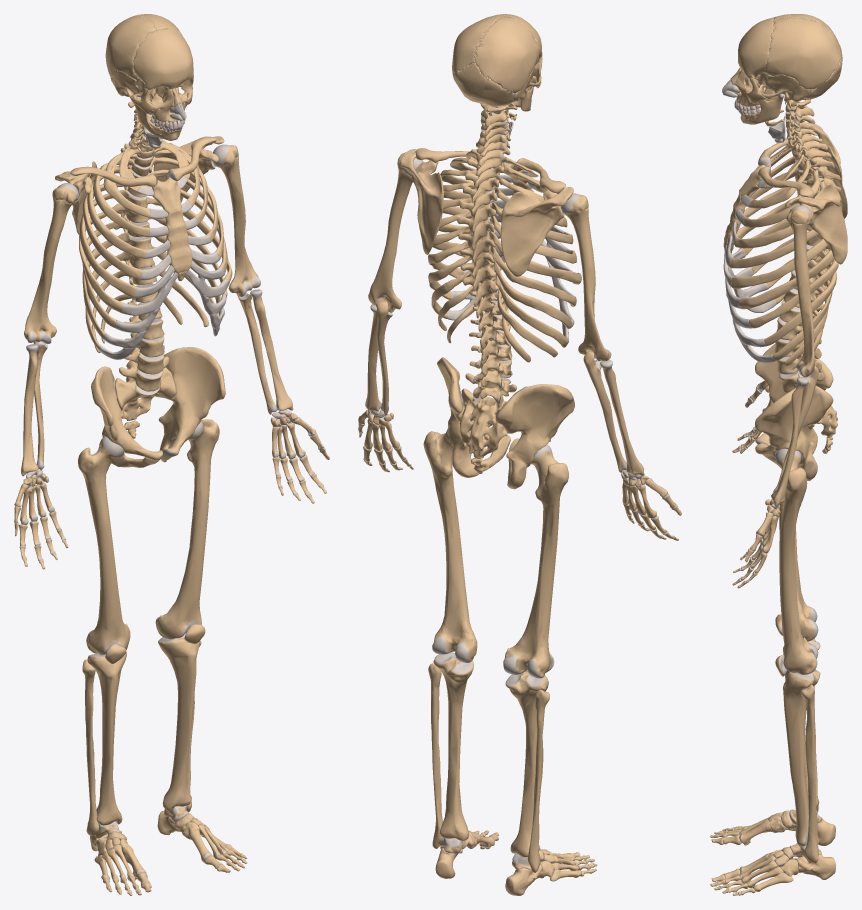
Rendered from skeletal.glb.
3 renders of one model, left to right at view 1: azimuth 30°, elevation 25°; view 2: azimuth 150°, elevation 25°; view 3: azimuth 270°, elevation 25°, orthographic. The views are drawn at different scales.
Parts seen in each view (by area): view 1: Femur.r, Femur.l, Hip bone.l, Tibia.l, Frontal bone, Tibia.r, Humerus.r, Humerus.l, Hip bone.r, Parietal bone.r, Sacrum, Fibula.r (+18 smaller); view 2: Femur.r, Femur.l, Hip bone.r, Scapula.r, Parietal bone.r, Tibia.l, Tibia.r, Humerus.r, Humerus.l, Hip bone.l, Scapula.l, Sacrum (+15 smaller); view 3: Femur.l, Parietal bone.l, Tibia.l, Hip bone.l, Humerus.l, Scapula.l, Fibula.l, Frontal bone, Hip bone.r, Radius.l, Femur.r, Seventh rib.l (+28 smaller).
Part boxes in pixels (bbox=[...]): Femur.r: bbox=[78, 436, 130, 655]; Femur.l: bbox=[155, 419, 219, 639]; Hip bone.l: bbox=[158, 347, 225, 462]; Tibia.l: bbox=[158, 633, 200, 811]; Frontal bone: bbox=[133, 28, 193, 91]; Tibia.r: bbox=[87, 652, 126, 825]; Humerus.r: bbox=[24, 183, 78, 344]; Humerus.l: bbox=[212, 144, 260, 296]; Hip bone.r: bbox=[91, 366, 162, 467]; Parietal bone.r: bbox=[105, 15, 157, 79]; Sacrum: bbox=[115, 367, 175, 420]; Fibula.r: bbox=[82, 659, 99, 835]; Femur.r: bbox=[503, 444, 568, 678]; Femur.l: bbox=[423, 428, 477, 662]; Hip bone.r: bbox=[495, 384, 574, 489]; Scapula.r: bbox=[500, 187, 573, 276]; Parietal bone.r: bbox=[474, 16, 539, 93]; Tibia.l: bbox=[433, 652, 473, 840]; Tibia.r: bbox=[505, 671, 548, 857]; Humerus.r: bbox=[561, 193, 611, 361]; Humerus.l: bbox=[368, 152, 423, 312]; Hip bone.l: bbox=[437, 357, 510, 477]; Scapula.l: bbox=[400, 149, 443, 254]; Sacrum: bbox=[459, 388, 507, 458]; Femur.l: bbox=[775, 448, 818, 674]; Parietal bone.l: bbox=[763, 17, 840, 89]; Tibia.l: bbox=[783, 669, 820, 846]; Hip bone.l: bbox=[755, 386, 833, 480]; Humerus.l: bbox=[786, 205, 815, 377]; Scapula.l: bbox=[785, 183, 847, 264]; Fibula.l: bbox=[800, 684, 818, 863]; Frontal bone: bbox=[738, 17, 774, 78]; Hip bone.r: bbox=[755, 343, 833, 453]; Radius.l: bbox=[771, 377, 808, 506]; Femur.r: bbox=[779, 470, 818, 641]; Seventh rib.l: bbox=[739, 249, 834, 309].
Size of the model in its own units: 0.6692 by 1.7 by 0.2501.
